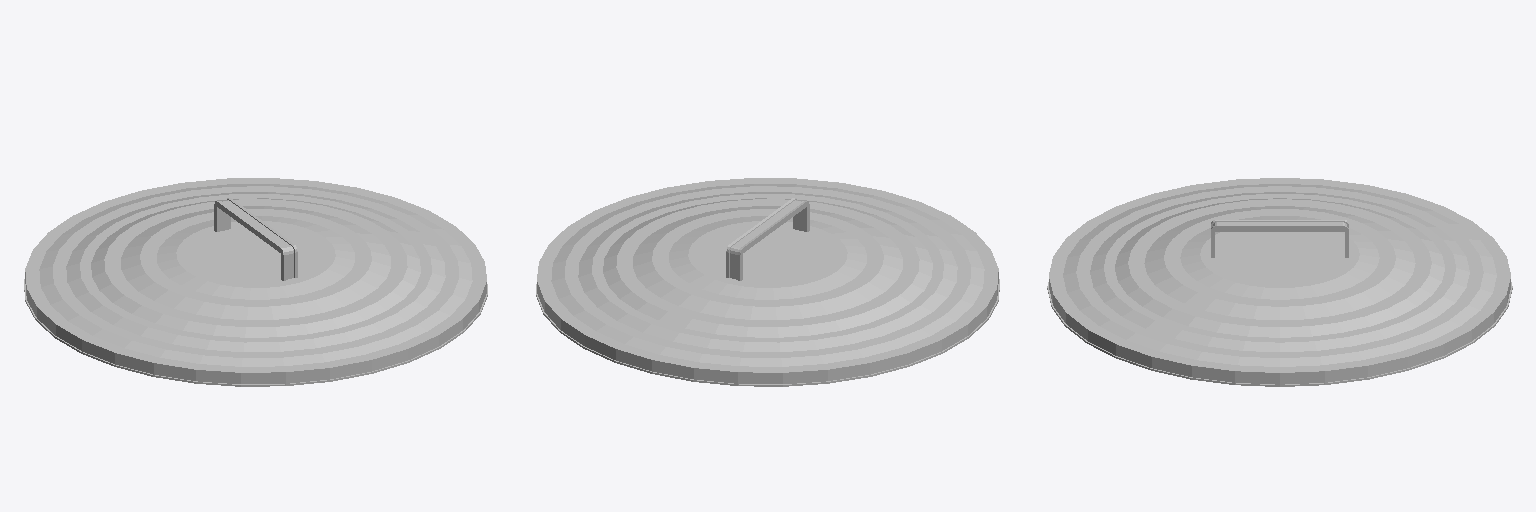
Rendered from JustLid.obj.
The picture shows the model from 3 angles: view 1: azimuth 30°, elevation 25°; view 2: azimuth 150°, elevation 25°; view 3: azimuth 270°, elevation 25°; orthographic projection.
Visible parts, largest first — view 1: Cylinder.003_Cylinder.008; view 2: Cylinder.003_Cylinder.008; view 3: Cylinder.003_Cylinder.008.
Boxes of the visible parts, x1=… form: Cylinder.003_Cylinder.008: x1=24, y1=178, x2=487, y2=386; Cylinder.003_Cylinder.008: x1=536, y1=178, x2=999, y2=386; Cylinder.003_Cylinder.008: x1=1047, y1=178, x2=1512, y2=386.
Bounding box in the file's own units: 2.01 × 0.3145 × 2.01.